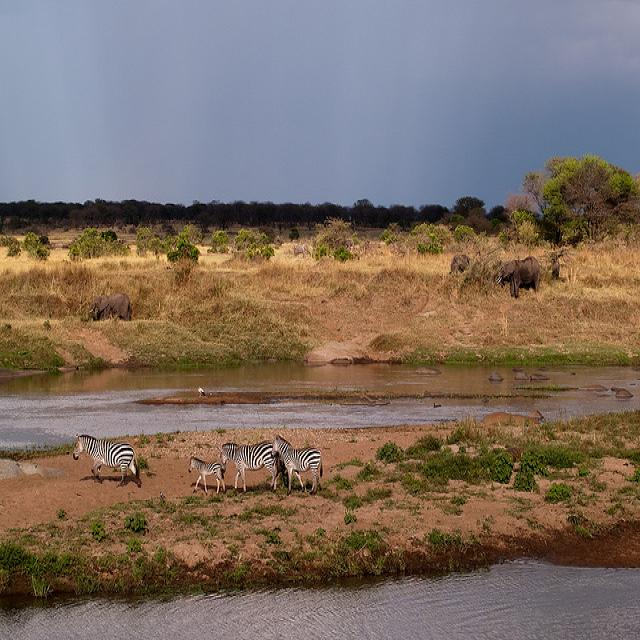Elephant: (495, 254, 542, 298), (88, 292, 132, 321)
